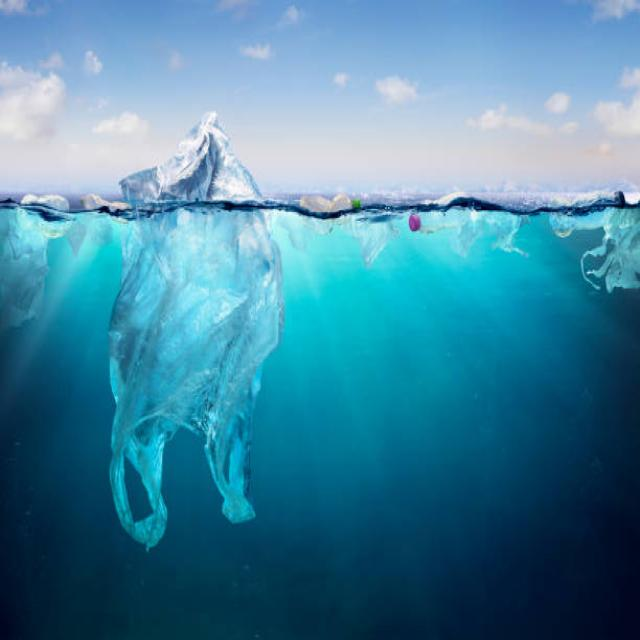plastic: (106, 141, 288, 451)
